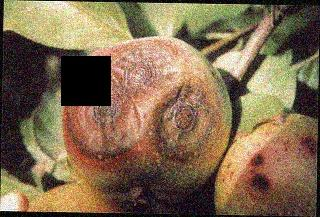rotten apple: (63, 37, 232, 208), (214, 110, 317, 216)
